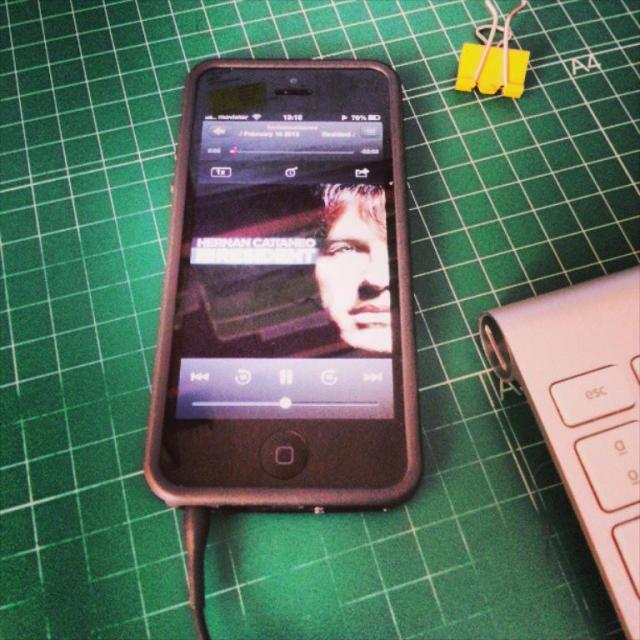Mobile-phone: (139, 59, 426, 514)
